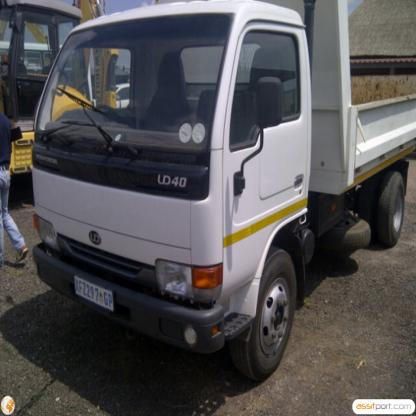dump_truck: (27, 5, 416, 385)
